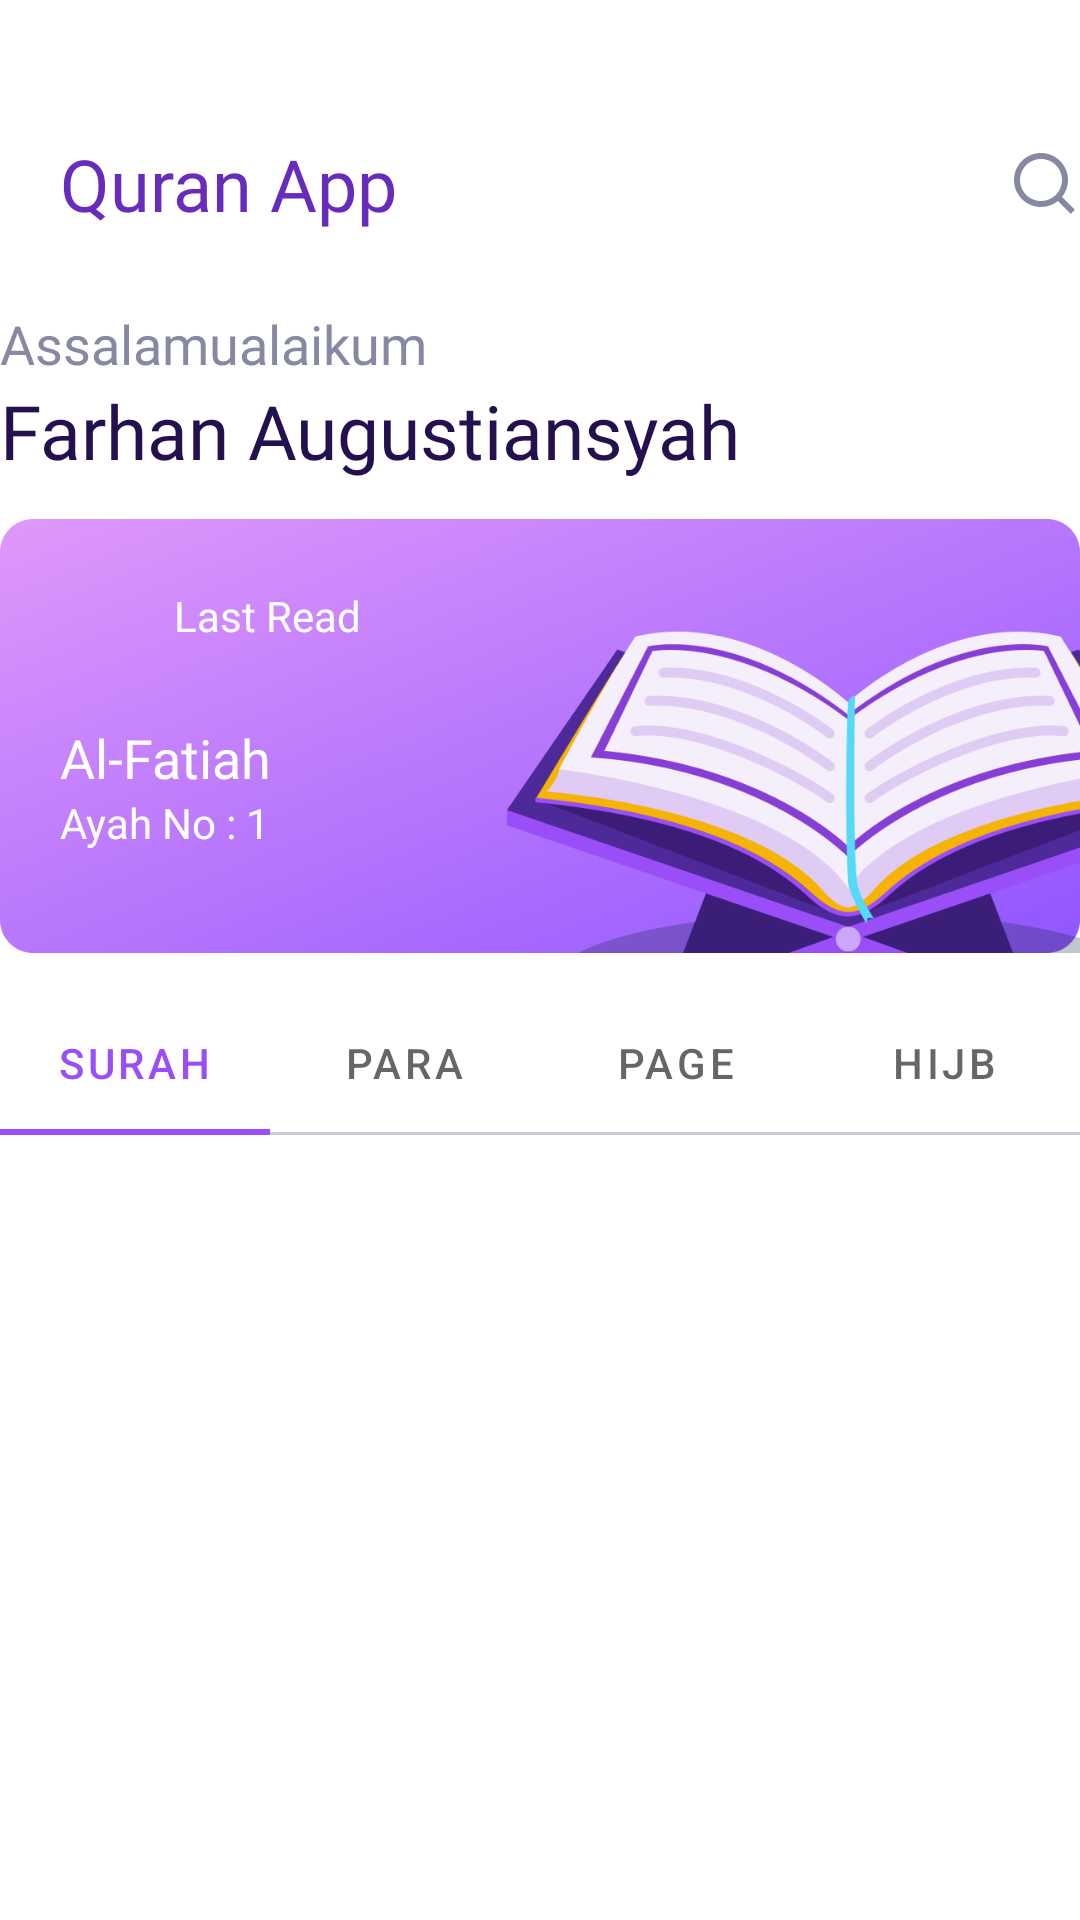

Icons on this 1080×1920 Android screen, each with the point to tap as [x,y]:
search: [1044,183]
